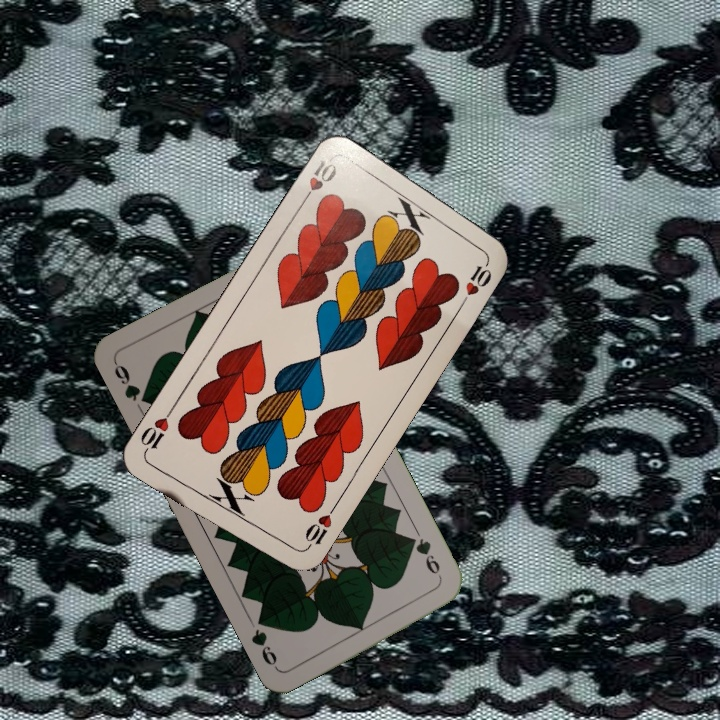G9: (110, 358, 154, 408), (404, 532, 445, 583)
H10: (296, 155, 340, 208), (299, 502, 338, 554)
